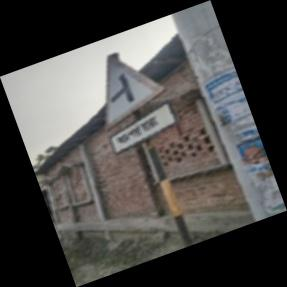Side-road-left: (102, 51, 178, 161)
